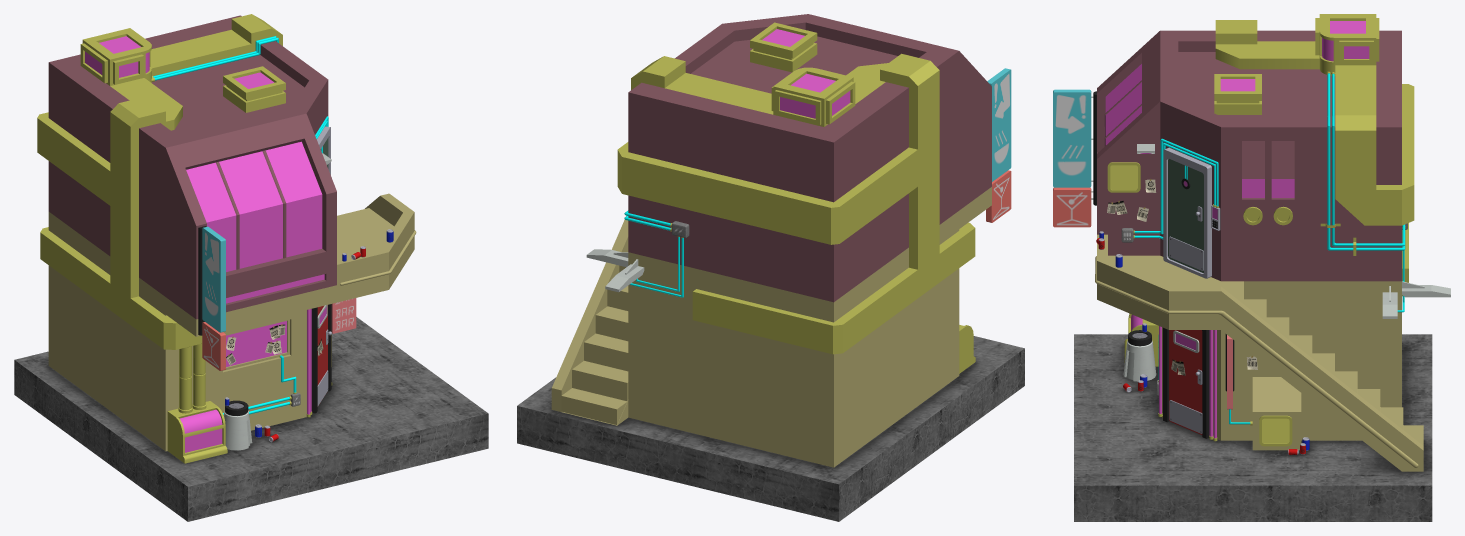
File: Sci-Fi House UV Texture 2.fbx
3 views of the same model, side by side, from view 1: azimuth 30°, elevation 25°; view 2: azimuth 150°, elevation 25°; view 3: azimuth 270°, elevation 25° (orthographic). The views are drawn at different scales.
Parts seen in each view (by area): view 1: pPlane9, polySurface23, polySurface5, polySurface13, polySurface18, polySurface9, pCube10, polySurface98, polySurface70, polySurface81, polySurface16, pCube6 (+13 smaller); view 2: polySurface23, polySurface5, polySurface13, pPlane9, pCube86, polySurface9, pCube10, polySurface70, pCube6, pCube5, pCube11, polySurface76 (+2 smaller); view 3: polySurface23, pPlane9, polySurface5, polySurface9, polySurface13, pCube10, pCube86, polySurface86, pCube7, polySurface91, polySurface85, pCylinder17 (+19 smaller).
Boxes of the visible parts, x1,y1,x2,y2 form: pPlane9: (14, 317, 488, 521); polySurface23: (48, 15, 336, 319); polySurface5: (48, 212, 336, 451); polySurface13: (37, 14, 282, 349); polySurface18: (186, 141, 322, 271); polySurface9: (337, 193, 414, 302); pCube10: (202, 226, 225, 332); polySurface98: (226, 321, 286, 366); polySurface70: (82, 28, 151, 85); polySurface81: (167, 401, 225, 455); polySurface16: (311, 304, 331, 413); pCube6: (223, 66, 285, 99); polySurface23: (628, 14, 991, 302); polySurface5: (628, 187, 991, 467); polySurface13: (617, 53, 975, 354); pPlane9: (517, 336, 1024, 521); pCube86: (561, 265, 628, 424); polySurface9: (551, 215, 628, 425); pCube10: (987, 68, 1011, 181); polySurface70: (773, 67, 853, 126); pCube6: (750, 22, 817, 58); pCube5: (750, 43, 817, 72); pCube11: (986, 170, 1011, 222); polySurface76: (774, 90, 821, 125); polySurface23: (1097, 30, 1401, 281); pPlane9: (1074, 334, 1432, 521); polySurface5: (1162, 281, 1401, 440); polySurface9: (1097, 234, 1423, 471); polySurface13: (1215, 20, 1414, 296); pCube10: (1053, 89, 1091, 187); pCube86: (1221, 281, 1423, 445); polySurface86: (1168, 159, 1203, 272); pCube7: (1252, 377, 1301, 450); polySurface91: (1169, 330, 1202, 434); polySurface85: (1163, 147, 1211, 278); pCylinder17: (1095, 256, 1418, 468).
Bounding box in the file's own units: 15.75 × 18.28 × 17.48.
Materials: 7 (2 with a texture image).
